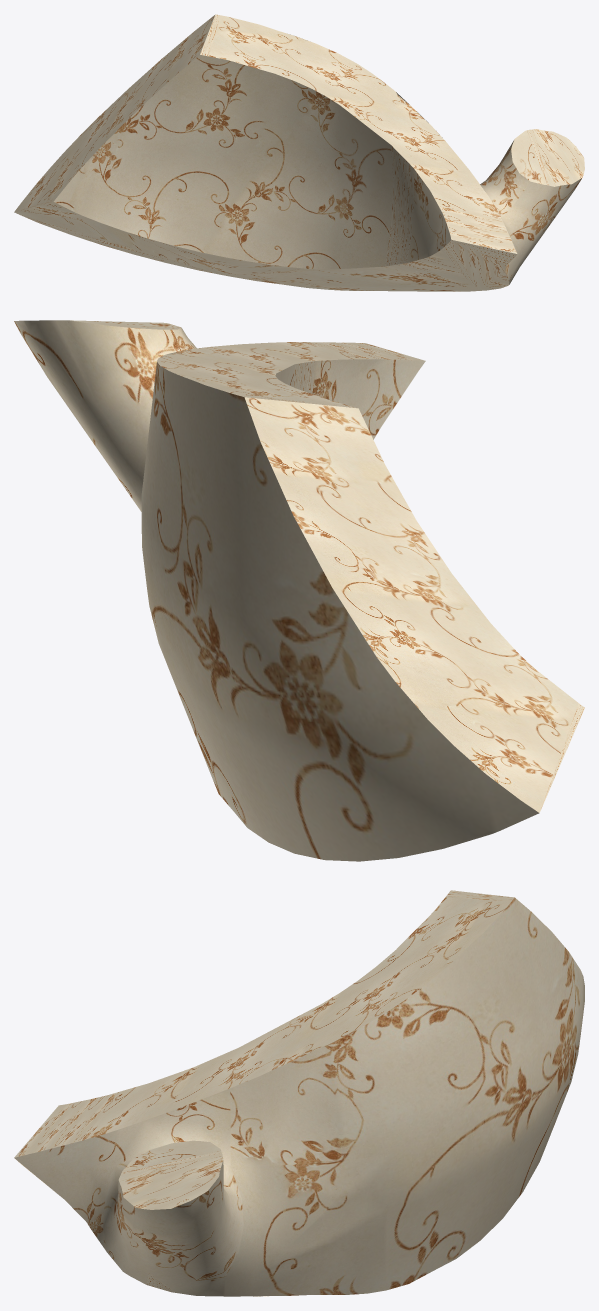
3 views of the same model, one above another, from view 1: azimuth 30°, elevation 25°; view 2: azimuth 150°, elevation 25°; view 3: azimuth 270°, elevation 25° (orthographic). The views are drawn at different scales.
Visible parts, largest first — view 1: Cylinder_cell.007; view 2: Cylinder_cell.007; view 3: Cylinder_cell.007.
Boxes of the visible parts, <box> form: Cylinder_cell.007: <box>14,14,584,291</box>; Cylinder_cell.007: <box>14,320,584,861</box>; Cylinder_cell.007: <box>14,890,584,1296</box>.
Bounding box in the file's own units: 1.54 × 0.8967 × 1.32.
1 material, 1 textured.
